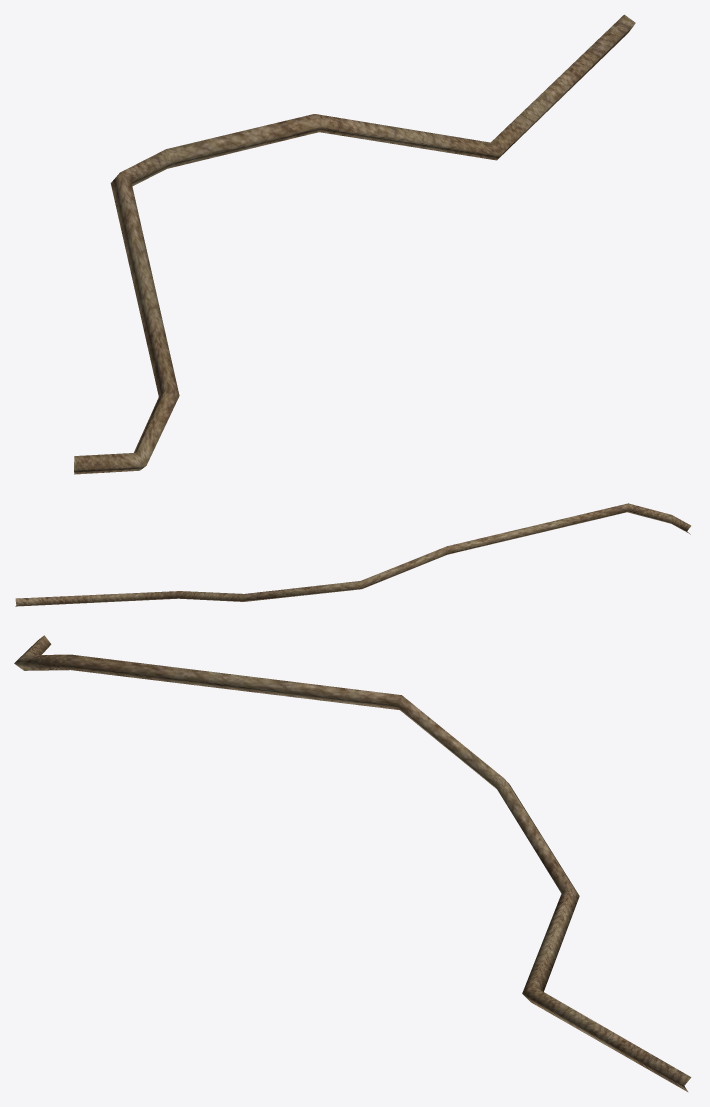
The model's file is vehicle_higgins_grapple_rope_short_l.glb.
3 views of the same model, one above another, from view 1: azimuth 30°, elevation 25°; view 2: azimuth 150°, elevation 25°; view 3: azimuth 270°, elevation 25° (orthographic). The views are drawn at different scales.
Bounding box in the file's own units: 40.44 × 6.34 × 30.75.
Materials: 1 (1 with a texture image).
